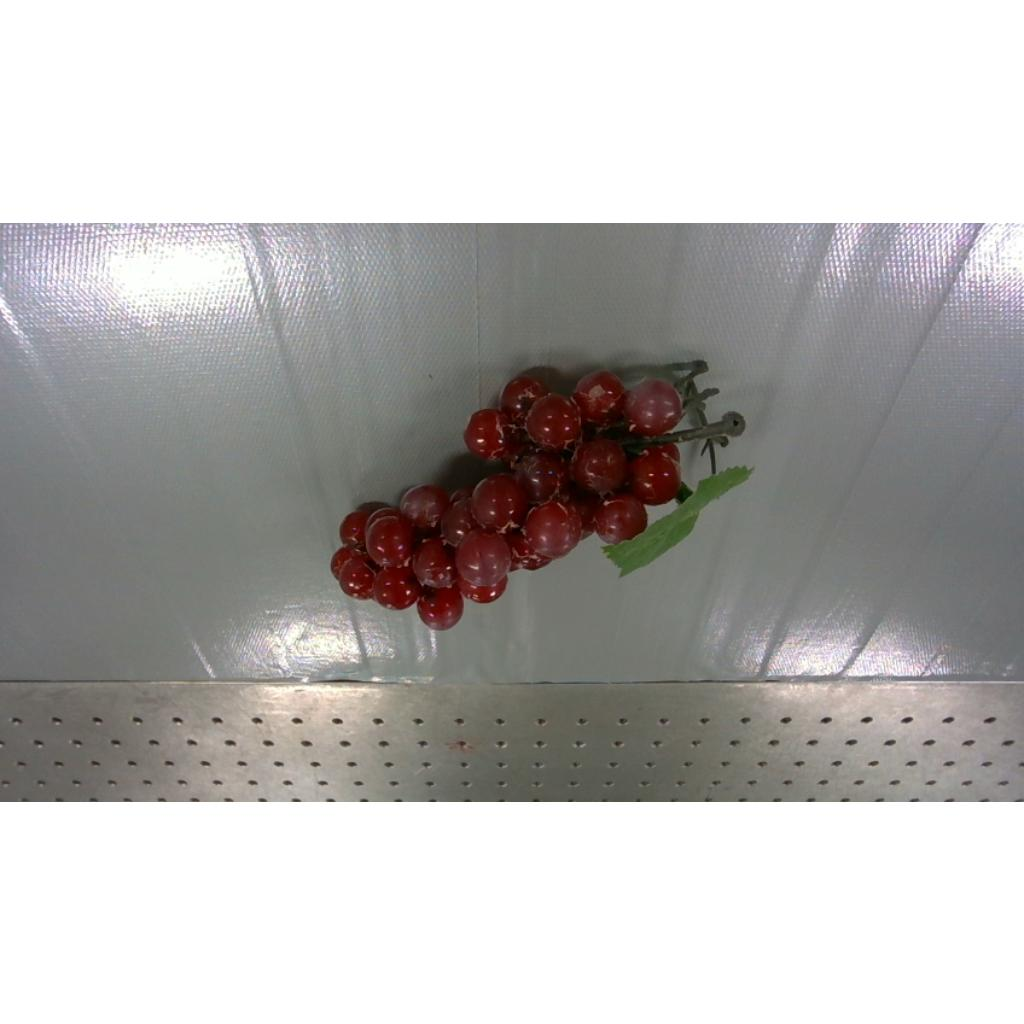grape: (330, 360, 752, 629)
